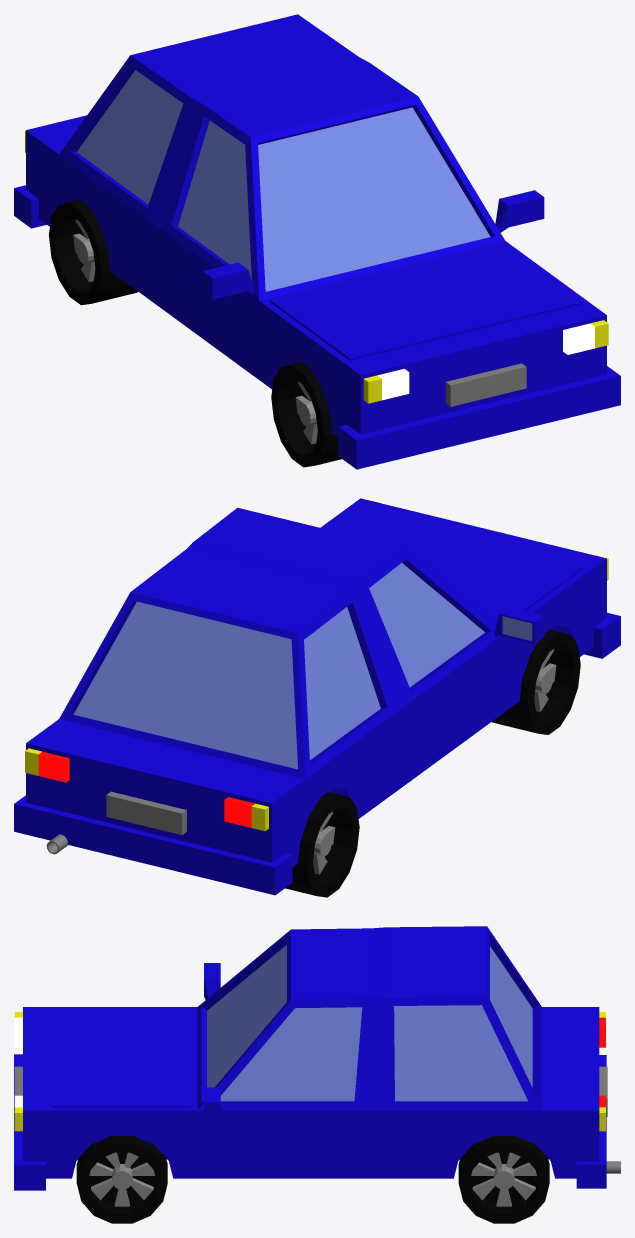
Rendered from Cars.gltf.
3 views of the same model, one above another, from view 1: azimuth 30°, elevation 25°; view 2: azimuth 150°, elevation 25°; view 3: azimuth 270°, elevation 25° (orthographic). The views are drawn at different scales.
Visible parts, largest first — view 1: Car; view 2: Car; view 3: Car.
Part boxes in pixels (x1,y1,x2,y2): Car: (14,14,620,469); Car: (14,498,620,897); Car: (14,926,620,1223).
Bounding box in the file's own units: 2.7 × 1.88 × 4.96.
